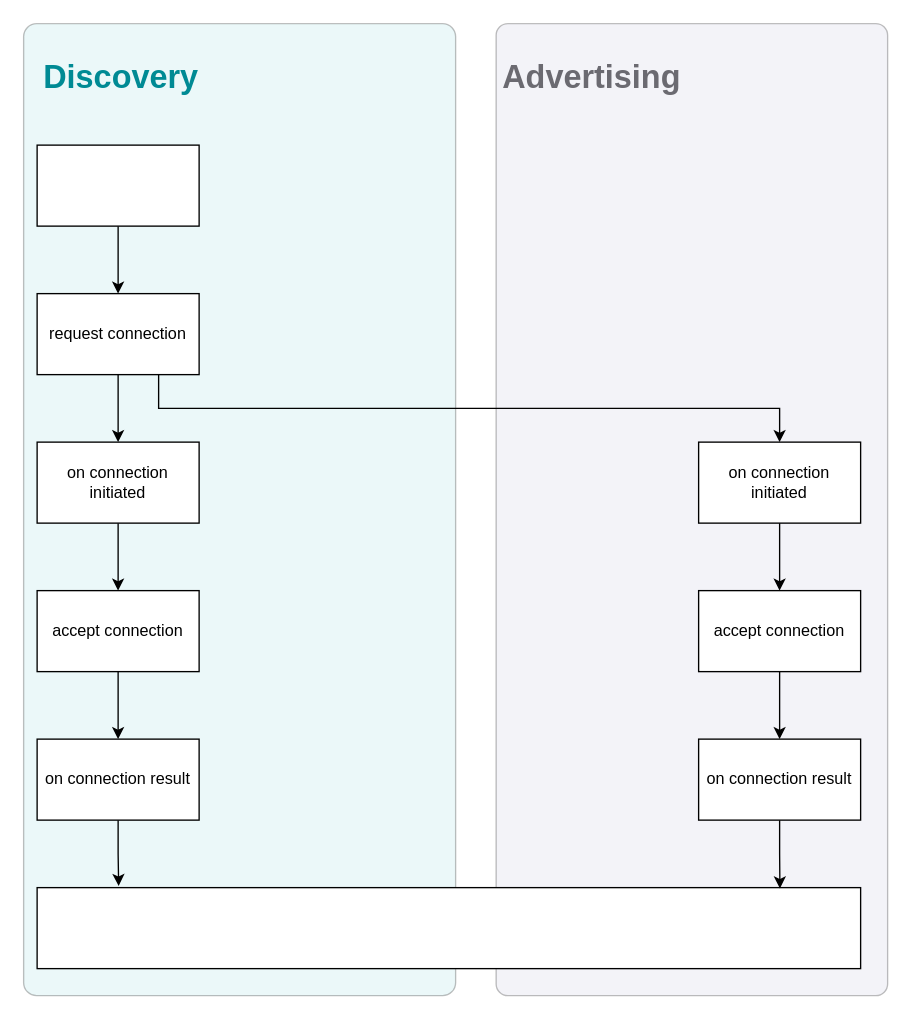
The diagram is 911 pixels wide and 1019 high, and some of its shapes have lost their labels. Here are the shapes that lost their labels. From the top down, the box of each, then its label:
(36, 144, 199, 226): on endpoint found
(36, 886, 861, 969): full duplex connection
